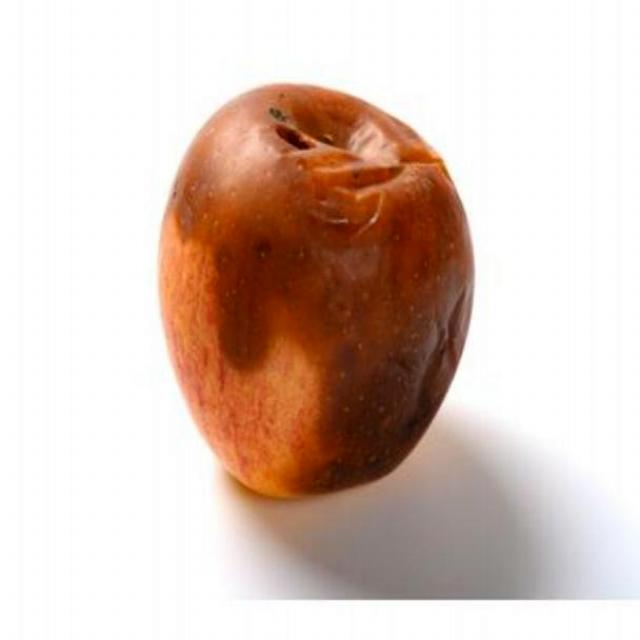ROT: (138, 60, 494, 514)
